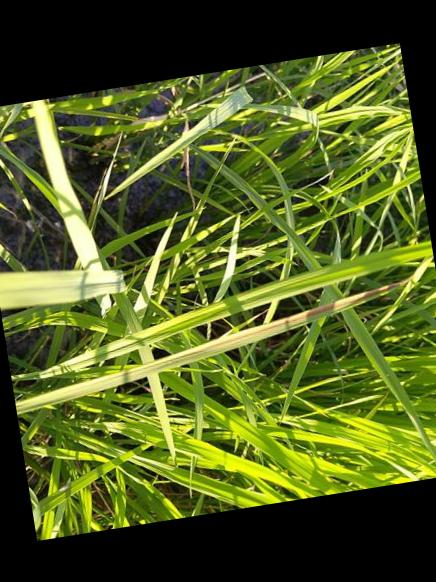Leaf Streak: (175, 283, 393, 356)
